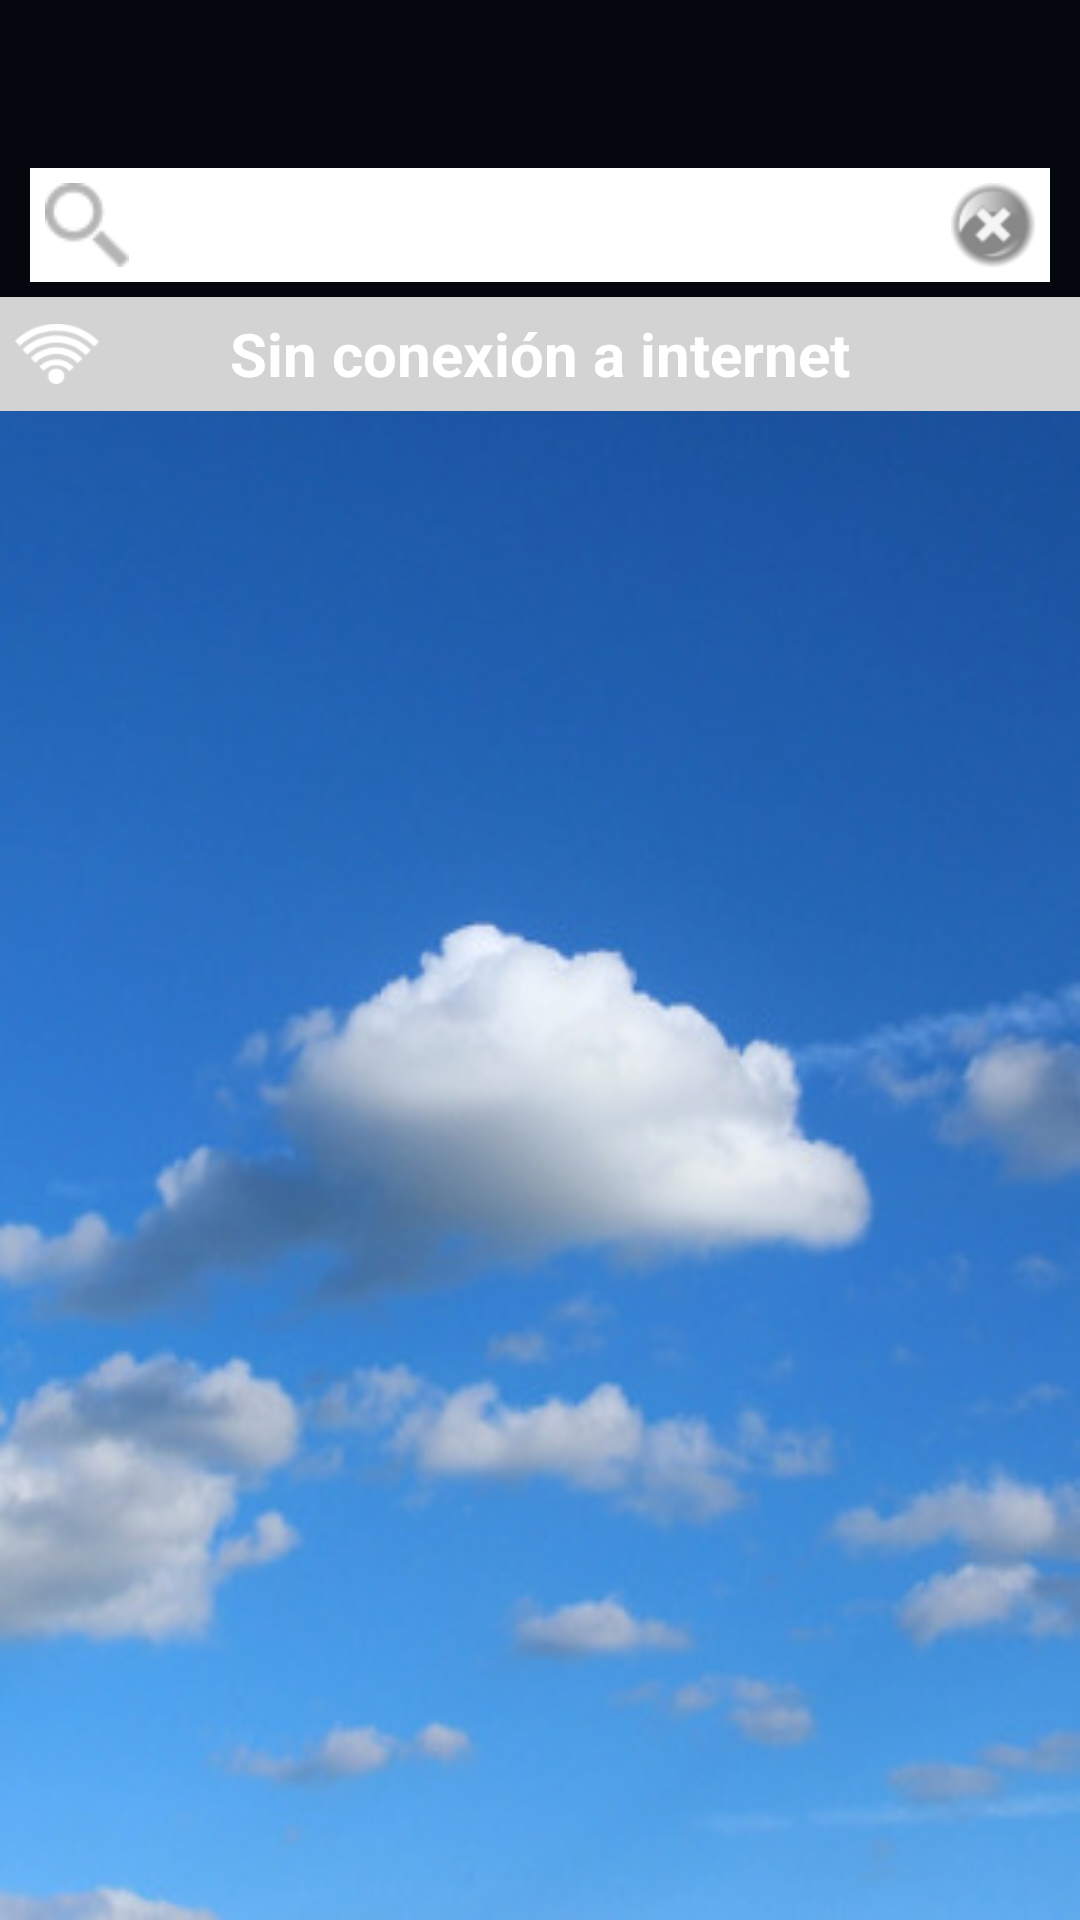

Where icons sit on this 1080px×1920px app screen, as [x1,y1,x2,y2]:
buscar: [45,183,129,267]
cerrar: [952,184,1034,266]
conexion: [16,324,98,384]
